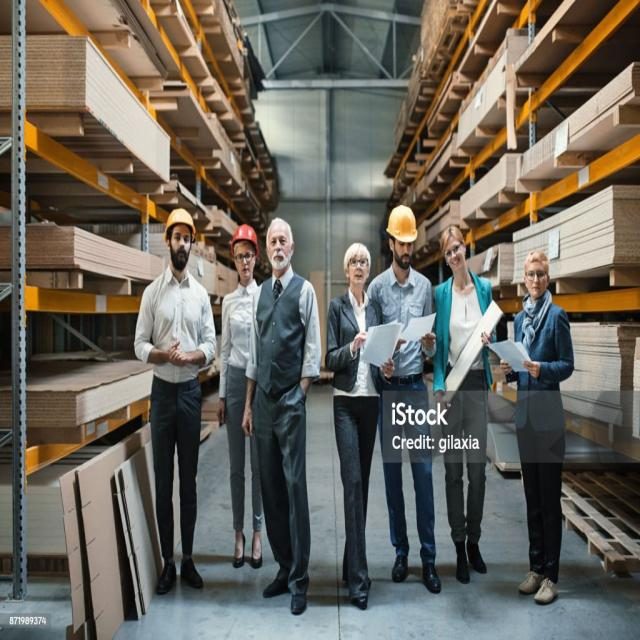Boots: (520, 559, 558, 610), (177, 556, 206, 597), (155, 562, 180, 596), (290, 574, 309, 615), (421, 562, 444, 594), (264, 580, 294, 600), (390, 554, 409, 582)
Helmet: (386, 202, 421, 244), (162, 209, 198, 244), (230, 223, 260, 254)
